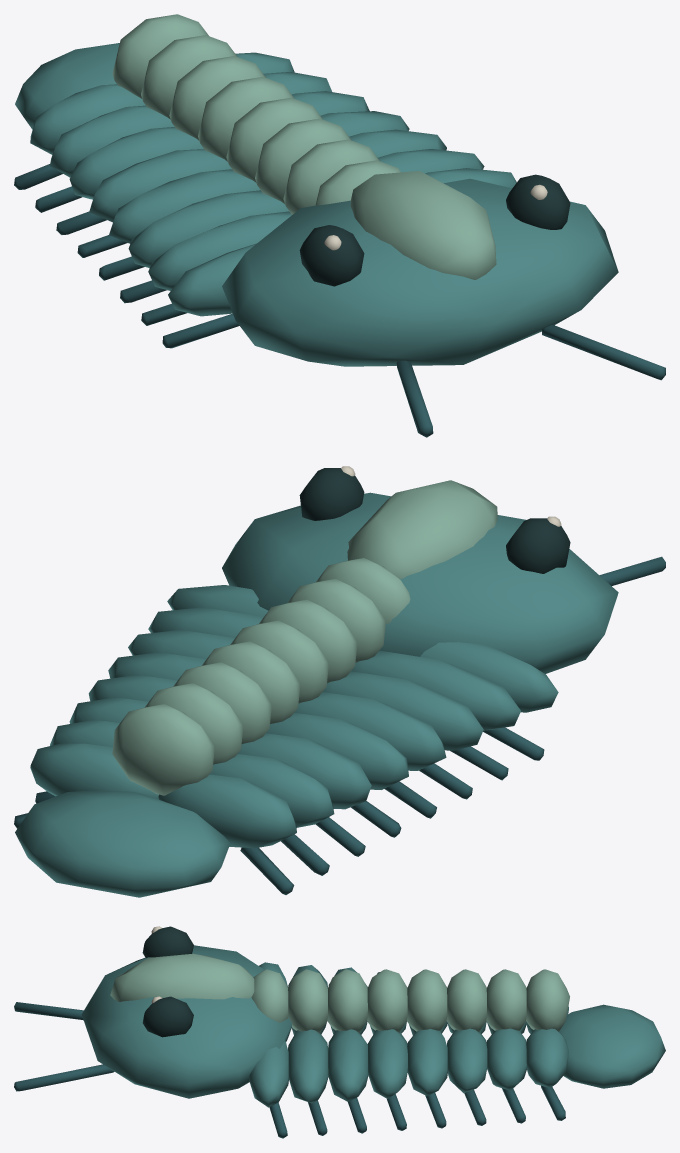
Rendered from org_trilobite.glb.
3 views of the same model, one above another, from view 1: azimuth 30°, elevation 25°; view 2: azimuth 150°, elevation 25°; view 3: azimuth 270°, elevation 25° (orthographic). The views are drawn at different scales.
Visible parts, largest first — view 1: Body, Head, Tail, Eye_R, Eye_L; view 2: Body, Head, Tail, Eye_R, Eye_L; view 3: Body, Head, Tail, Eye_L, Eye_R.
Part boxes in pixels (bbox=[...]): Body: bbox=[14, 14, 516, 348]; Head: bbox=[222, 171, 665, 437]; Tail: bbox=[15, 43, 119, 129]; Eye_R: bbox=[299, 225, 364, 286]; Eye_L: bbox=[506, 174, 570, 229]; Body: bbox=[14, 558, 558, 894]; Head: bbox=[222, 480, 665, 673]; Tail: bbox=[15, 790, 230, 897]; Eye_R: bbox=[506, 516, 570, 573]; Eye_L: bbox=[299, 466, 364, 520]; Body: bbox=[248, 962, 569, 1138]; Head: bbox=[14, 945, 291, 1098]; Tail: bbox=[559, 1004, 665, 1088]; Eye_L: bbox=[142, 996, 193, 1037]; Eye_R: bbox=[142, 926, 193, 957].
Bounding box in the file's own units: 1.03 × 0.42 × 2.13.
